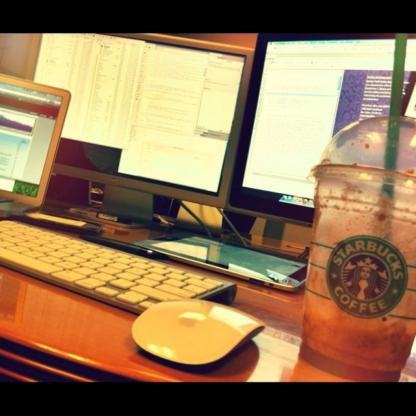board: (2, 72, 73, 220)
